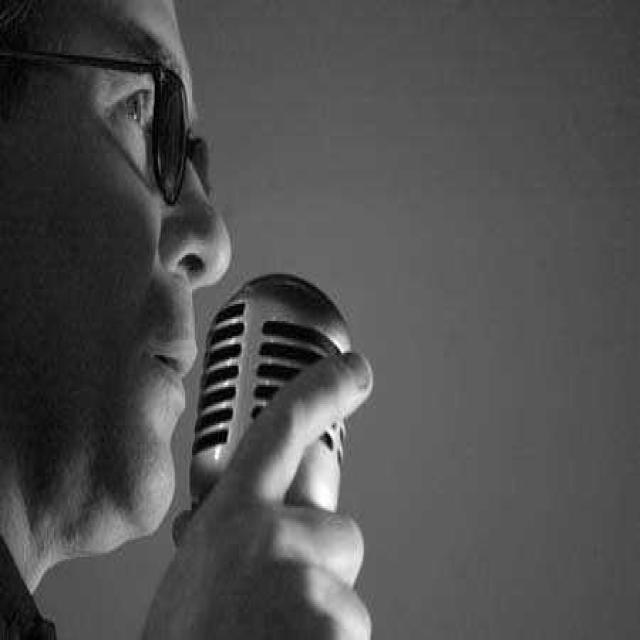microphone: (186, 270, 369, 580)
